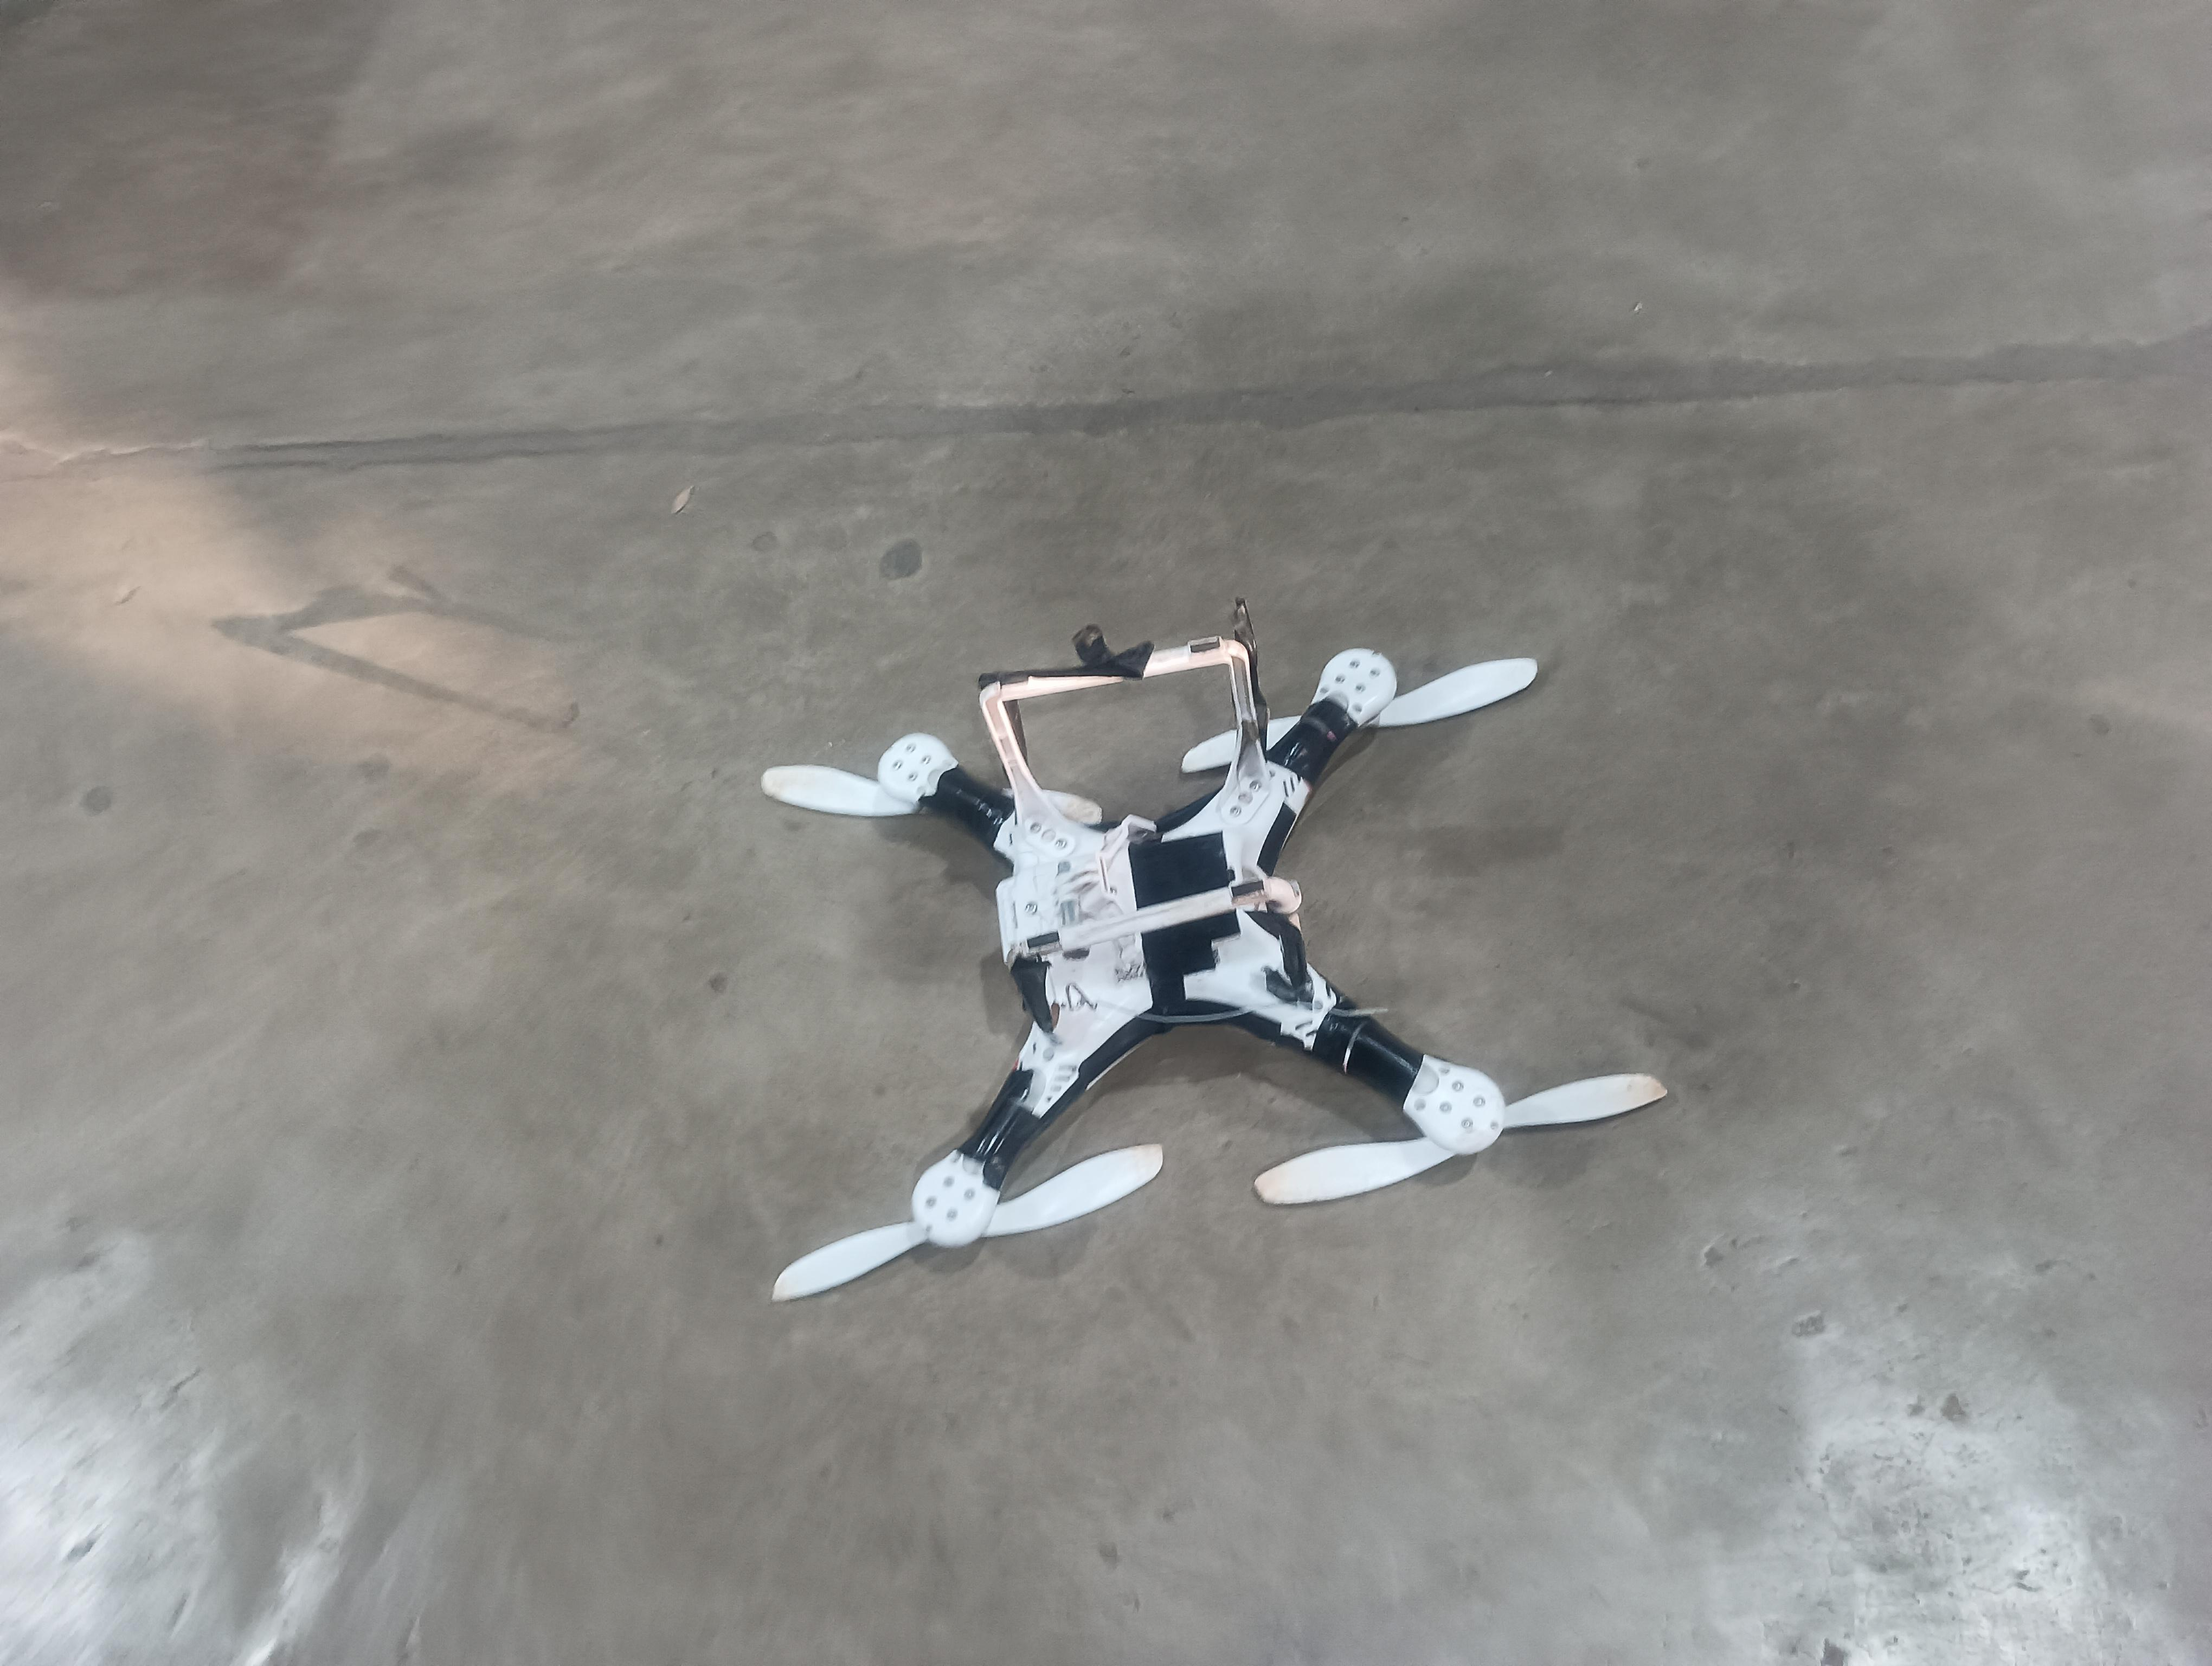drone: (733, 576, 1733, 1363)
